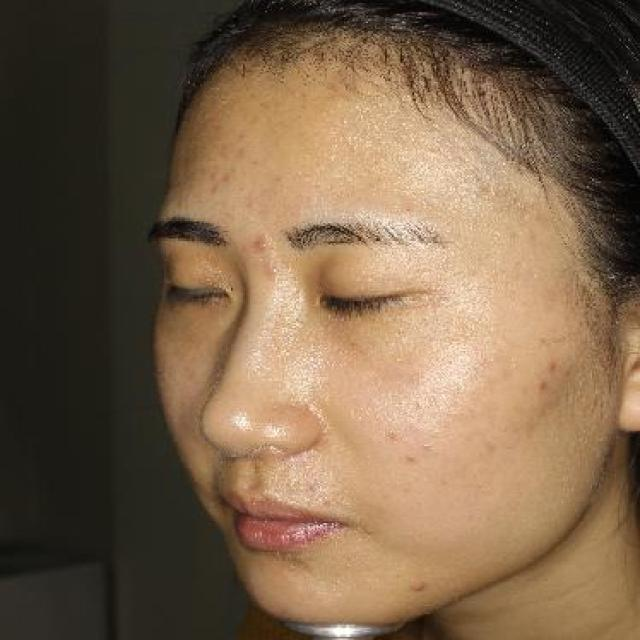dark spot: (541, 356, 570, 378), (532, 377, 558, 397)
papules: (246, 229, 282, 254), (402, 574, 433, 600), (358, 522, 385, 543)
whiteheads: (409, 395, 435, 414), (416, 435, 441, 454)
